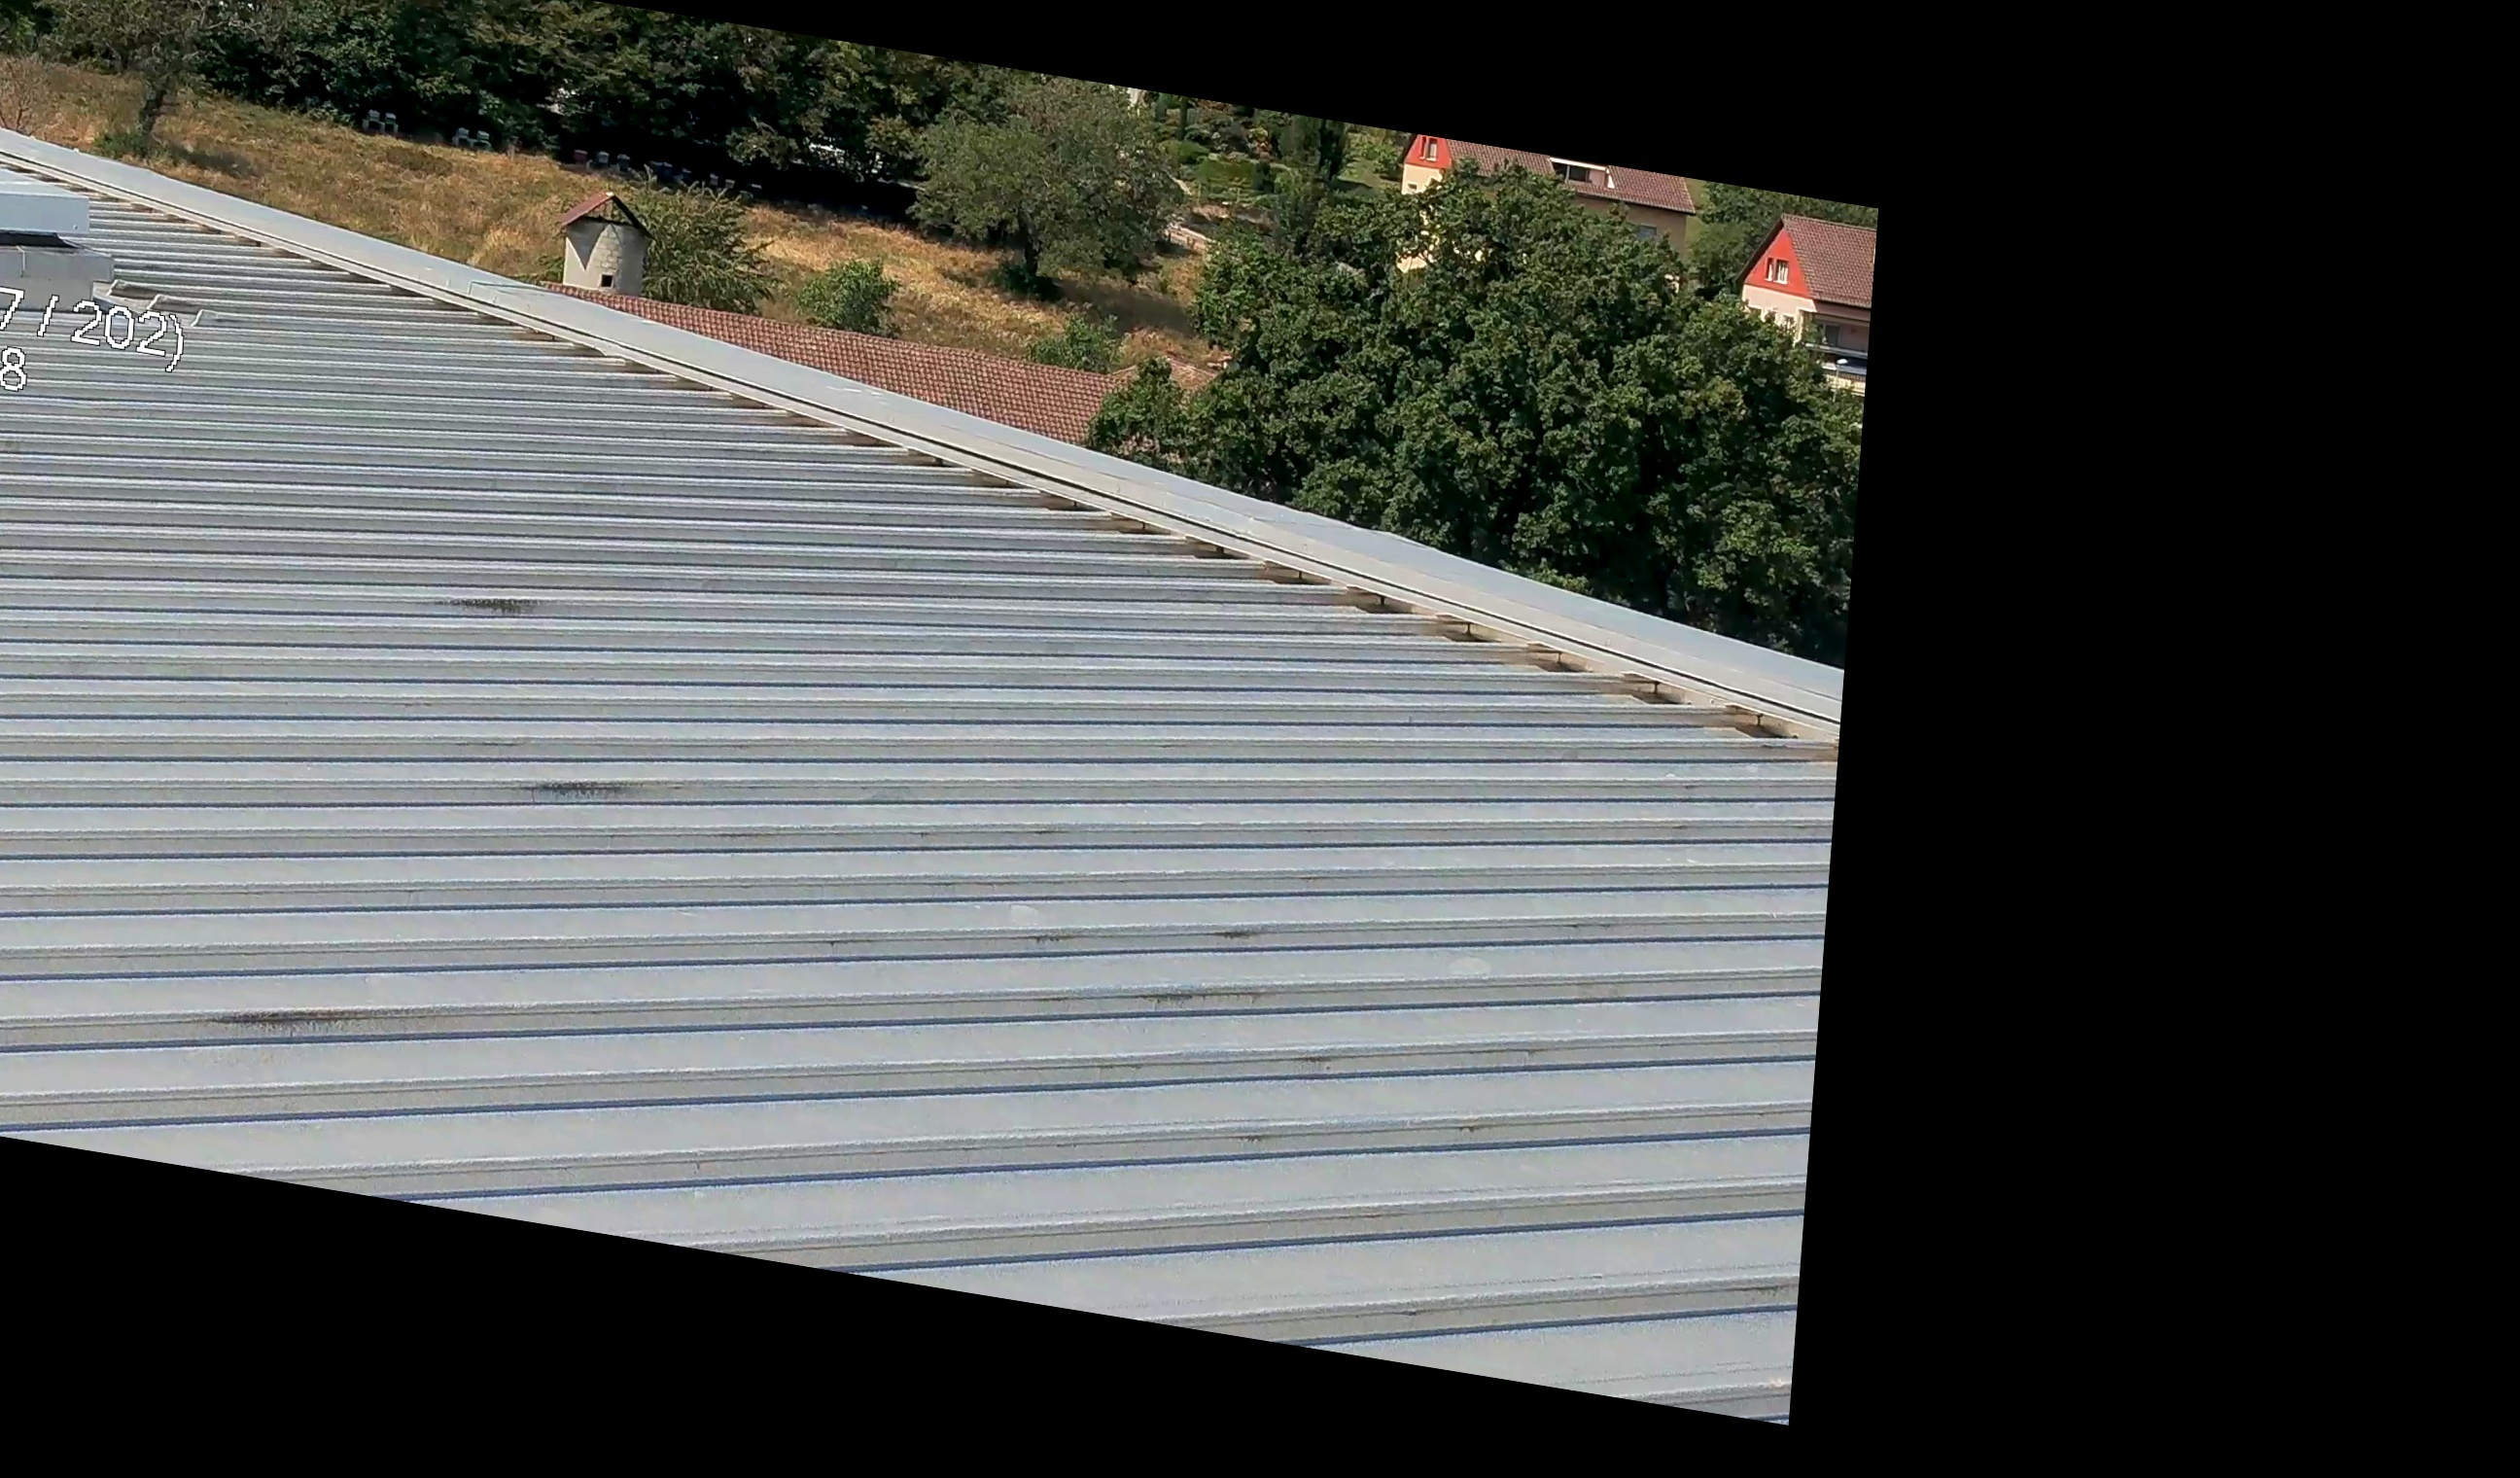Other: (545, 172, 668, 310)
